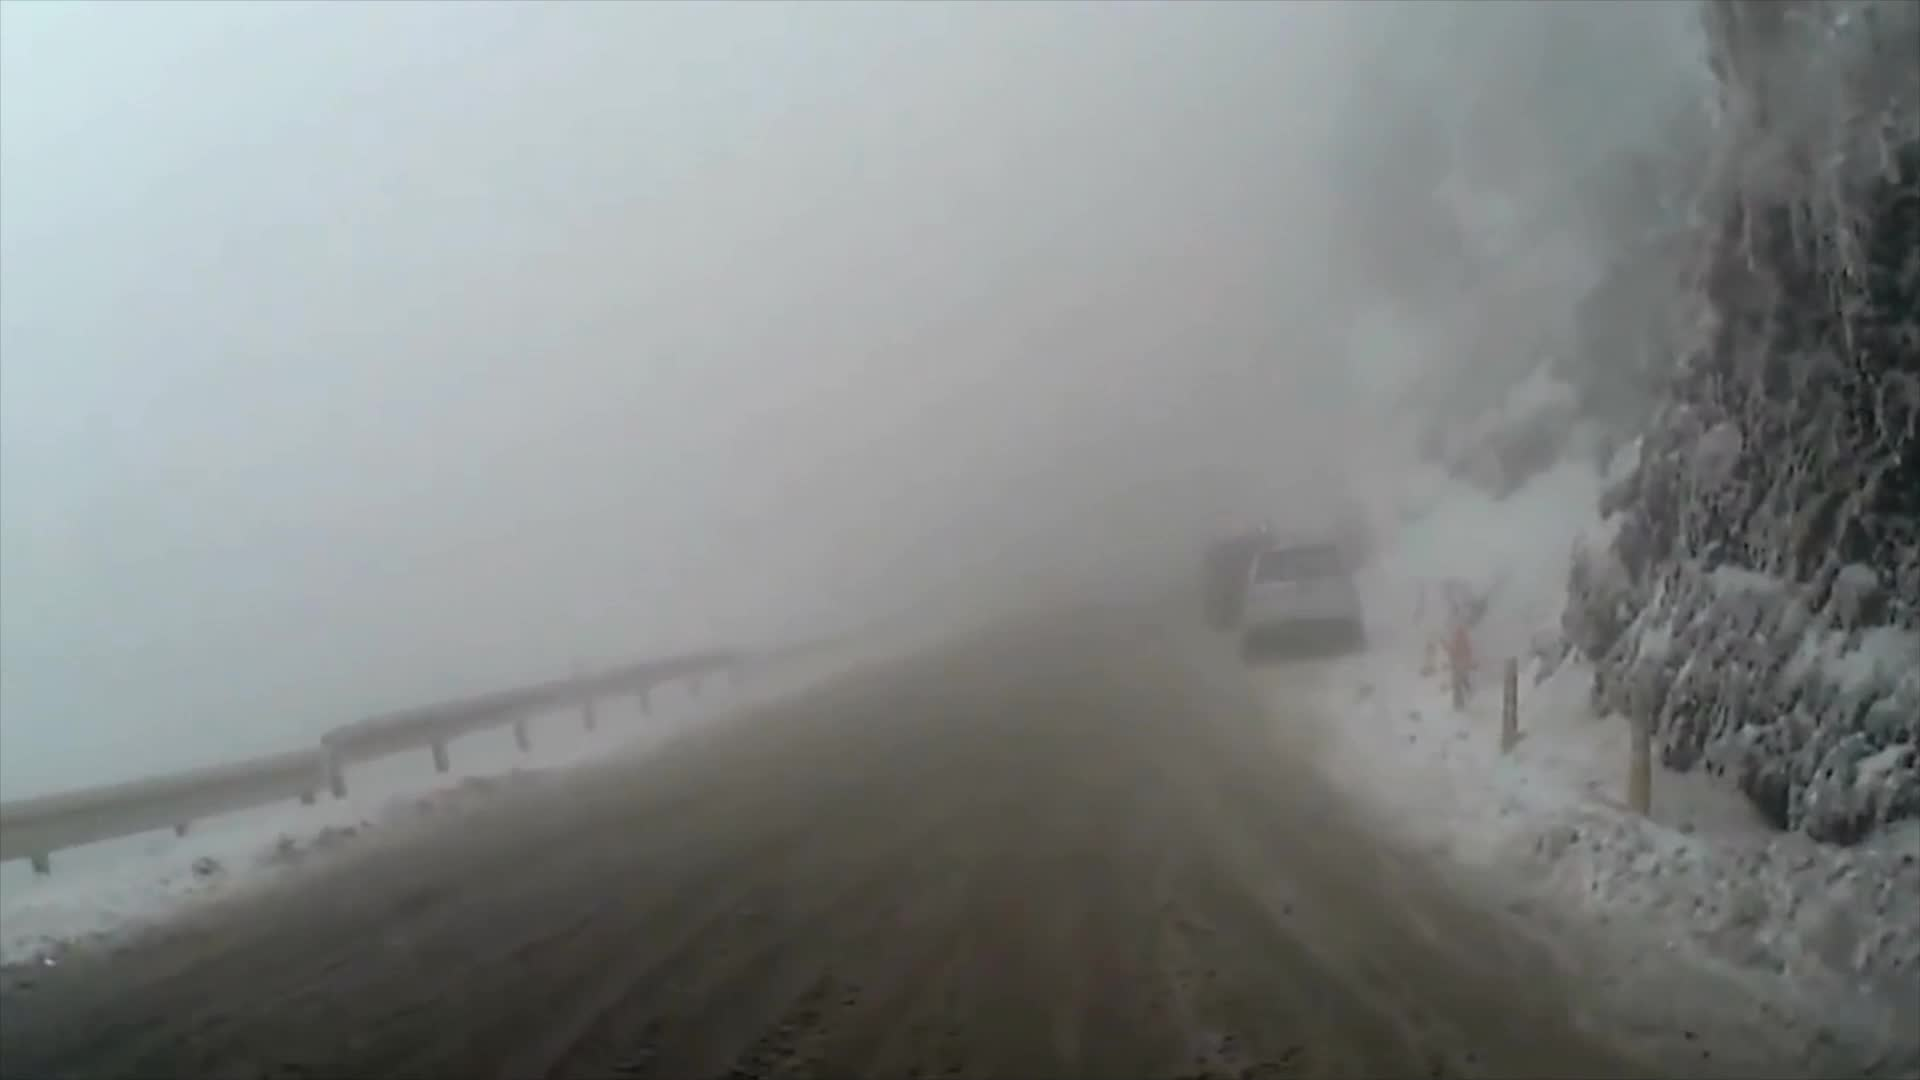vehicle: (1244, 533, 1365, 655)
